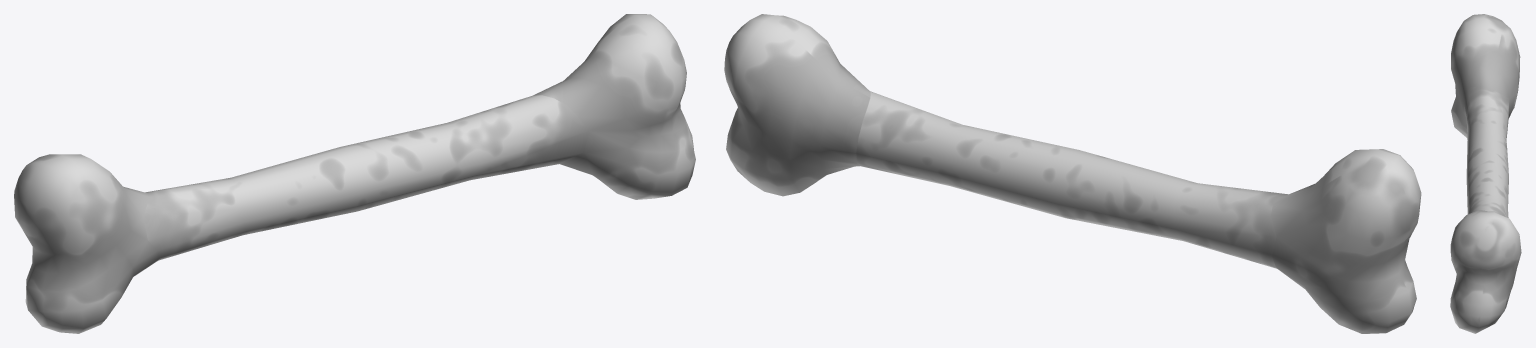
Rendered from bone_model.fbx.
3 views of the same model, side by side, from view 1: azimuth 30°, elevation 25°; view 2: azimuth 150°, elevation 25°; view 3: azimuth 270°, elevation 25° (orthographic). The views are drawn at different scales.
Visible parts, largest first — view 1: Bone_low:Bone_low; view 2: Bone_low:Bone_low; view 3: Bone_low:Bone_low.
Part boxes in pixels (box(x1,y1,x2,y2)): Bone_low:Bone_low: box(14, 14, 695, 333); Bone_low:Bone_low: box(724, 14, 1421, 333); Bone_low:Bone_low: box(1450, 14, 1521, 333).
Bounding box in the file's own units: 66.43 × 17.19 × 9.2.
1 material, 1 textured.
